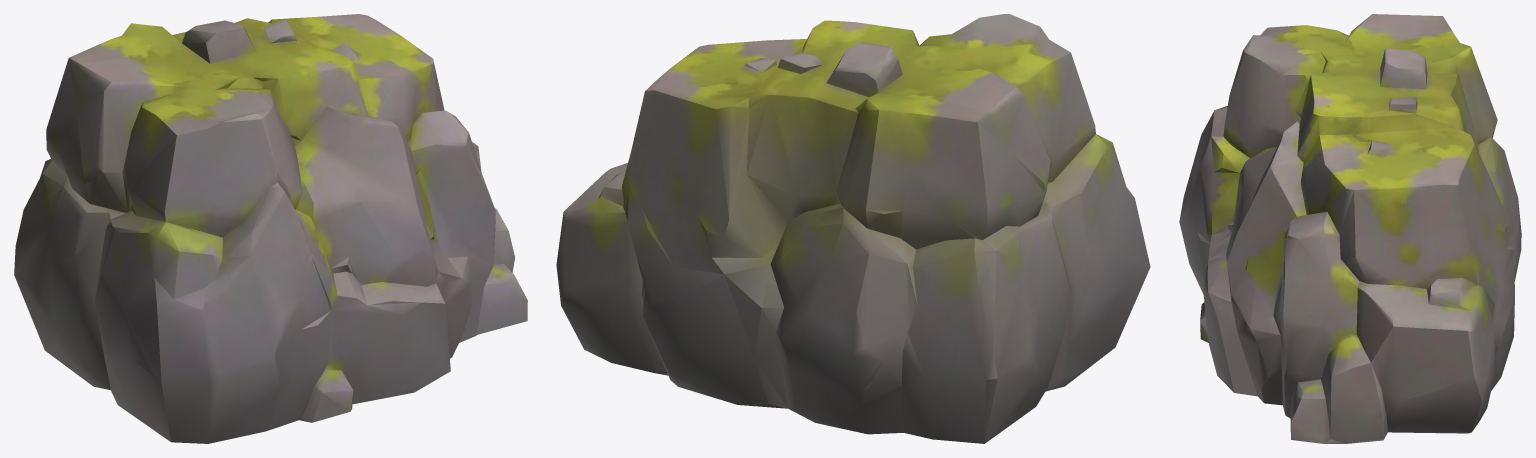
File: boulder_small.glb
3 views of the same model, side by side, from view 1: azimuth 30°, elevation 25°; view 2: azimuth 150°, elevation 25°; view 3: azimuth 270°, elevation 25° (orthographic). The views are drawn at different scales.
Parts seen in each view (by area): view 1: body; view 2: body; view 3: body.
Part boxes in pixels (<box>): body: <box>14,14,527,443</box>; body: <box>556,14,1150,443</box>; body: <box>1179,14,1521,443</box>.
Bounding box in the file's own units: 0.4933 × 0.3498 × 0.3847.
1 material, 1 textured.
